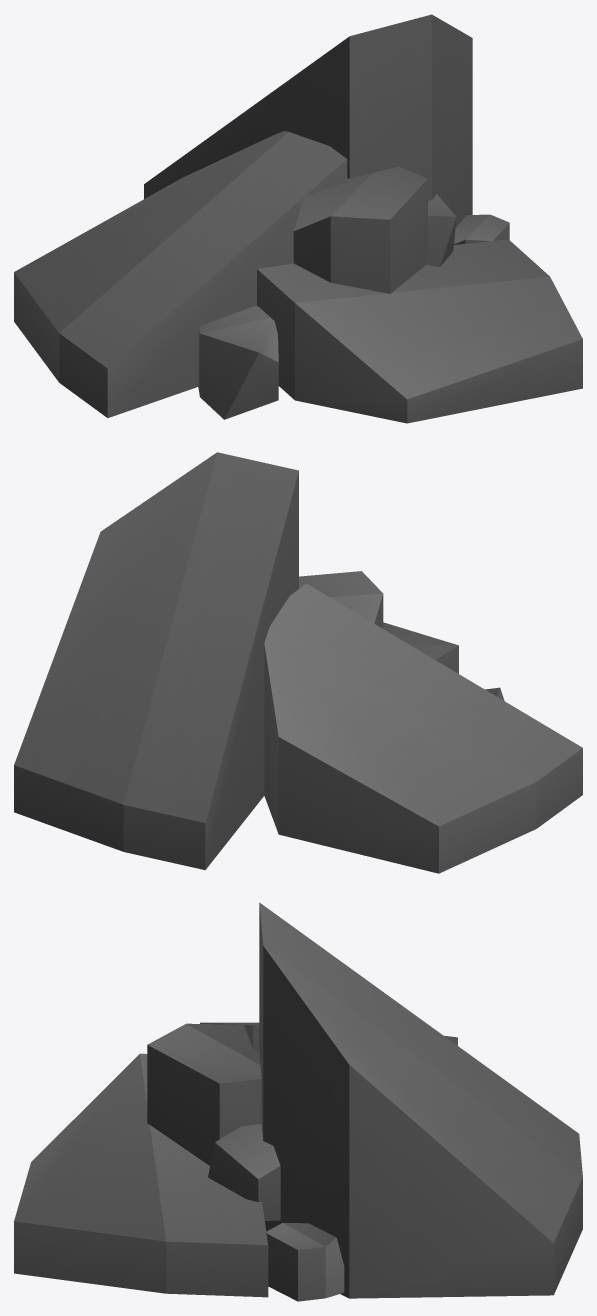
File: pack02_rocks_18.fbx
3 views of the same model, one above another, from view 1: azimuth 30°, elevation 25°; view 2: azimuth 150°, elevation 25°; view 3: azimuth 270°, elevation 25° (orthographic). The views are drawn at different scales.
Visible parts, largest first — view 1: Rock Type5 02 mesh; view 2: Rock Type5 02 mesh; view 3: Rock Type5 02 mesh.
Boxes of the visible parts, x1,y1,x2,y2 form: Rock Type5 02 mesh: [14, 14, 582, 423]; Rock Type5 02 mesh: [14, 452, 582, 873]; Rock Type5 02 mesh: [14, 902, 582, 1301].
Size of the model in its own units: 226 by 144 by 236.
1 material, 1 textured.
